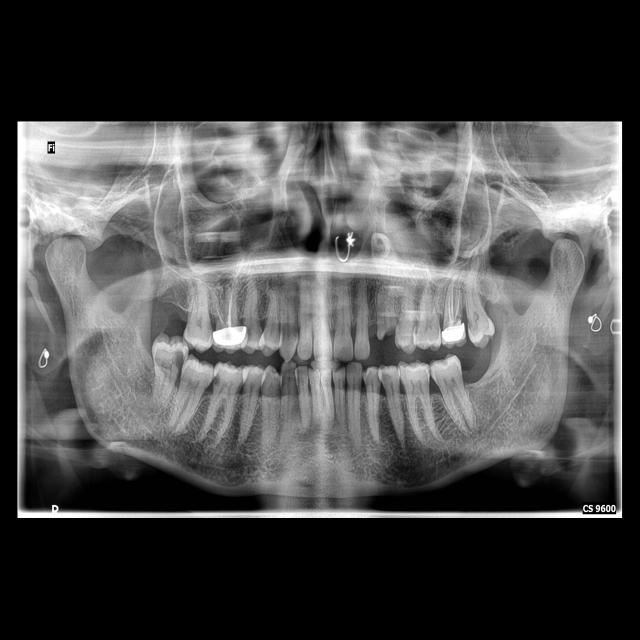dentin-curugu: (159, 348, 188, 375)
kanal-tedavisi: (214, 289, 236, 330), (446, 287, 462, 325)
kaplama: (213, 322, 247, 349), (442, 319, 466, 345)
kirik: (375, 324, 403, 345)
